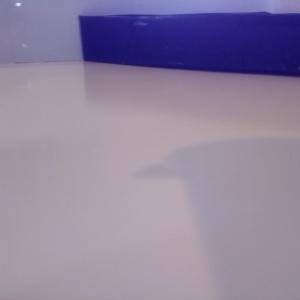zone: (78, 11, 300, 77)
